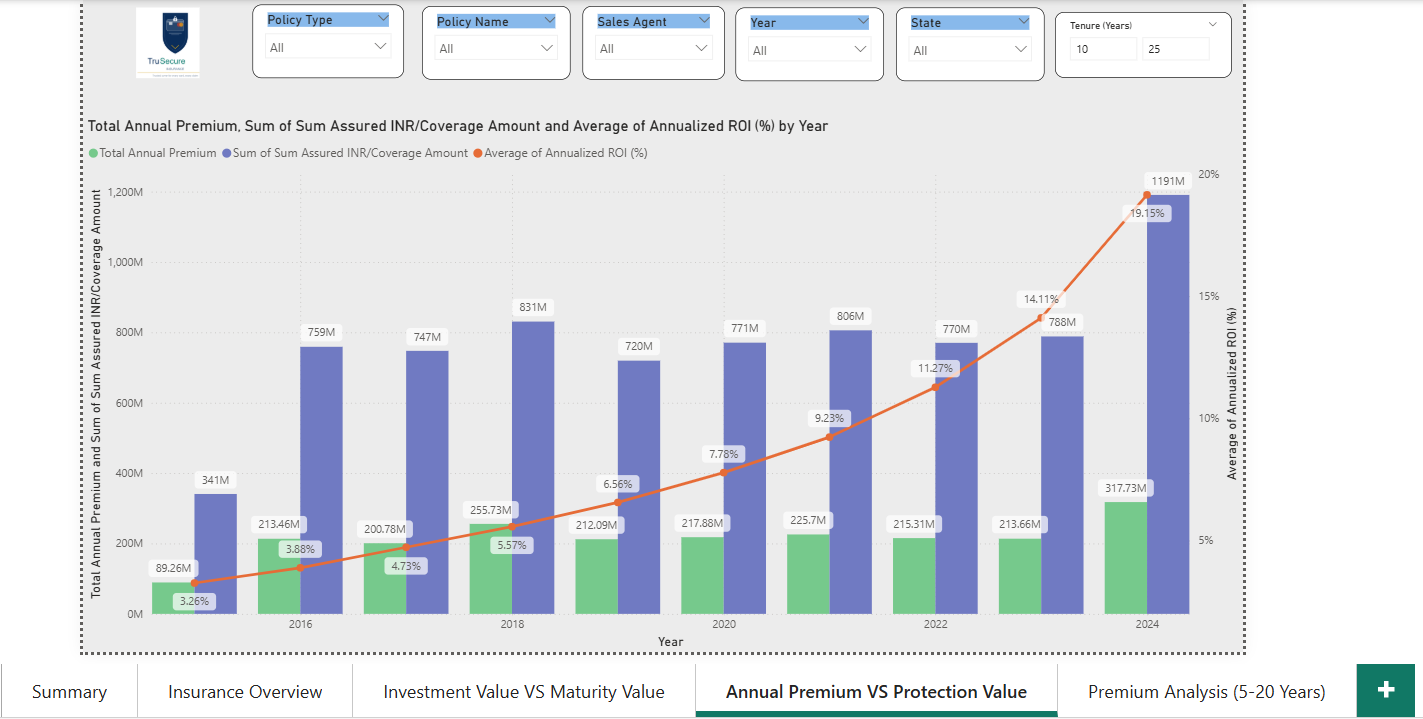

The page's visual inventory and layout, read from the dashboard file:
{"tool":"powerbi","page":{"name":"Annual Premium VS Protection Value","canvas":[1280,720],"ordinal":3},"visuals":[{"type":"image","box":[0,8.3,187.2,77.9],"z":0},{"type":"slicer","fields":{"Values":["DM Policy_Type.Policy Type"]},"box":[187.2,5,167.3,81.2],"z":1000},{"type":"slicer","fields":{"Values":["DM Policy_Protection_Plan.Policy Name"]},"box":[374.4,6.6,164,81.2],"z":2000},{"type":"slicer","fields":{"Values":["DM Insurance_Agent_Table.Sales Agent"]},"box":[551.6,6.6,157.4,81.2],"z":3000},{"type":"slicer","fields":{"Values":["FCT Insurance_Policy_Table.Start Date.Variation.Date Hierarchy.Year"]},"box":[720.6,8.3,164,81.2],"z":4000},{"type":"slicer","fields":{"Values":["DM Customer_Detail_Table.State"]},"box":[897.8,8.3,164,81.2],"z":5000},{"type":"lineClusteredColumnComboChart","fields":{"Category":["FCT Insurance_Policy_Table.Start Date.Variation.Date Hierarchy.Year","FCT Insurance_Policy_Table.Start Date.Variation.Date Hierarchy.Quarter","FCT Insurance_Policy_Table.Start Date.Variation.Date Hierarchy.Month","FCT Insurance_Policy_Table.Start Date.Variation.Date Hierarchy.Day"],"Y2":["Avg(FCT Insurance_Policy_Table.Annualized ROI (%))"],"Y":["Sum(FCT Insurance_Policy_Table.Total Annual Premium)","Sum(FCT Insurance_Policy_Table.Sum Assured INR/Coverage Amount)"]},"box":[0,129.2,1280.5,591.4],"z":6000},{"type":"slicer","fields":{"Values":["FCT Insurance_Policy_Table.Tenure (Years)"]},"box":[1073.4,13.3,195.5,72.9],"z":7000}]}

Visuals, with their boxes on the page's 1280x720 design canvas (x1, y1, x2, y2). These are canvas units, not pixel positions in the 1423x719 screenshot, which may show the page scaled, cropped or inside an application window:
image: l=0, t=8, r=187, b=86
slicer - DM Policy_Type.Policy Type: l=187, t=5, r=354, b=86
slicer - DM Policy_Protection_Plan.Policy Name: l=374, t=7, r=538, b=88
slicer - DM Insurance_Agent_Table.Sales Agent: l=552, t=7, r=709, b=88
slicer - FCT Insurance_Policy_Table.Start Date.Variation.Date Hierarchy.Year: l=721, t=8, r=885, b=90
slicer - DM Customer_Detail_Table.State: l=898, t=8, r=1062, b=90
lineClusteredColumnComboChart - FCT Insurance_Policy_Table.Start Date.Variation.Date Hierarchy.Year x FCT Insurance_Policy_Table.Start Date.Variation.Date Hierarchy.Quarter: l=0, t=129, r=1280, b=721
slicer - FCT Insurance_Policy_Table.Tenure (Years): l=1073, t=13, r=1269, b=86
